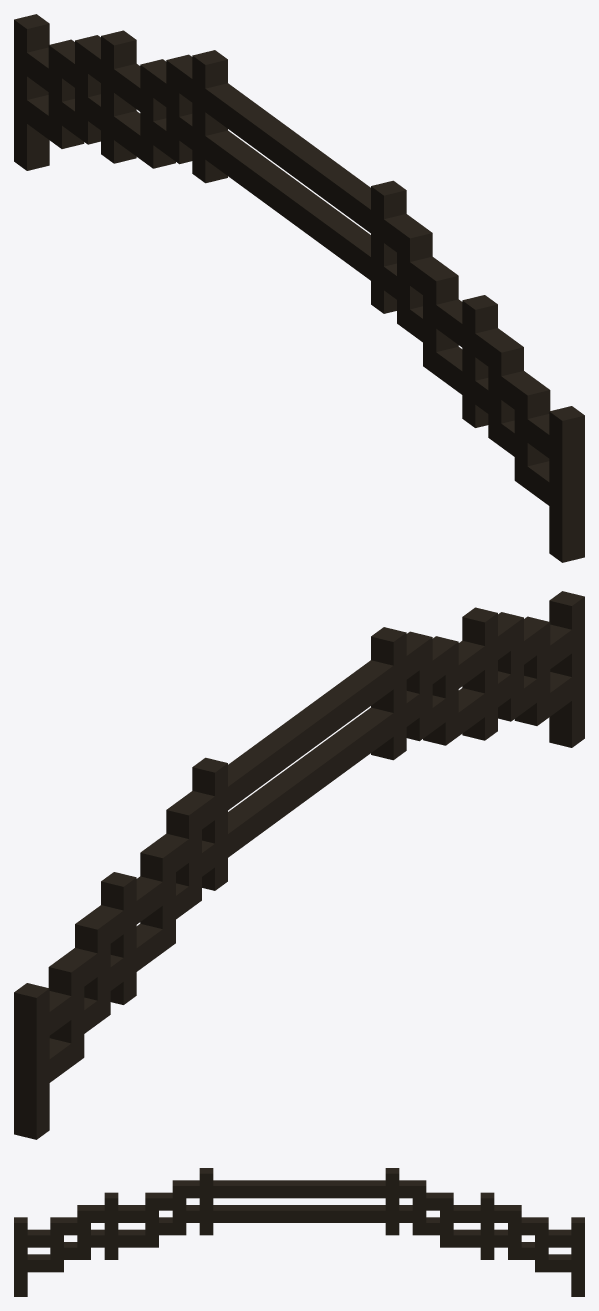
Rendered from Ponte-1.obj.
The picture shows the model from 3 angles, top to bottom: view 1: azimuth 30°, elevation 25°; view 2: azimuth 150°, elevation 25°; view 3: azimuth 270°, elevation 25°; orthographic projection. The views are drawn at different scales.
Bounding box in the file's own units: 0.3 × 3 × 12.6.
1 material, 1 textured.
